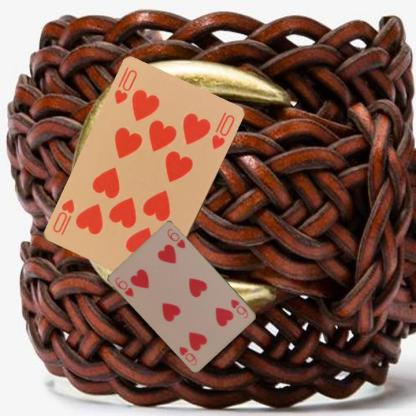10h: (112, 67, 138, 106)
6h: (228, 296, 250, 320), (113, 274, 135, 298)
